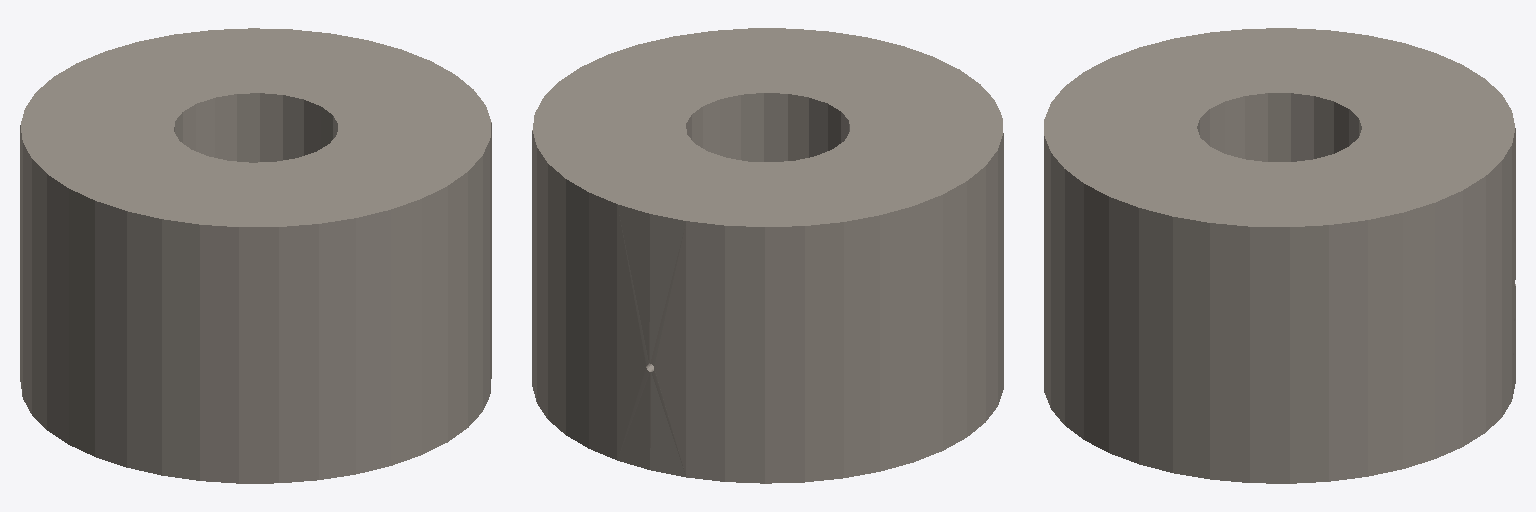
The robot description file, URDF, robot "hole.SLDPRT":
<robot
  name="hole.SLDPRT">
  <link
    name="hole2">
    <inertial>
      <origin
        xyz="-2.0507E-11 -8.83819999999822E-06 0.029046"
        rpy="0 0 0" />
      <mass
        value="0.8" />
      <inertia
        ixx="0.00326558457565104"
        ixy="-2.53448693149081E-12"
        ixz="1.17335737189149E-13"
        iyy="0.00326659114208105"
        iyz="-1.51036653555202E-07"
        izz="0.00449834912547142" />
    </inertial>
    <visual>
      <origin
        xyz="0 0 0"
        rpy="1.5707963267949 0 0" />
      <geometry>
        <mesh
          filename="package://sawyer_gazebo_env/models/hole2/hole2.STL" />
      </geometry>
      <material
        name="">
        <color
          rgba="0.64706 0.61961 0.58824 1" />
      </material>
    </visual>
    <collision>
      <origin
        xyz="0 0 0"
        rpy="1.5707963267949 0 0" />
      <geometry>
        <mesh
          filename="package://sawyer_gazebo_env/models/hole2/hole2.STL" />
      </geometry>
    </collision>
  </link>
</robot>

--- Facts derived from the render (not from the file) ---
Views: 3 orthographic renders of the robot side by side, from view 1: azimuth 30°, elevation 25°; view 2: azimuth 150°, elevation 25°; view 3: azimuth 270°, elevation 25°.
Robot: hole.SLDPRT — 1 links, 0 joints (none); root link hole2; default pose: every joint at zero.
Visible links, largest first — view 1: hole2; view 2: hole2; view 3: hole2.
Link boxes in pixels (bbox=[...]): hole2: bbox=[20, 28, 491, 483]; hole2: bbox=[532, 28, 1003, 483]; hole2: bbox=[1044, 28, 1515, 483].
Size in the robot's own frame: 0.0999 by 0.0998 by 0.06 metres.
Meshes: 1 distinct files referenced, 1 mesh visuals loaded (1 binary STL).